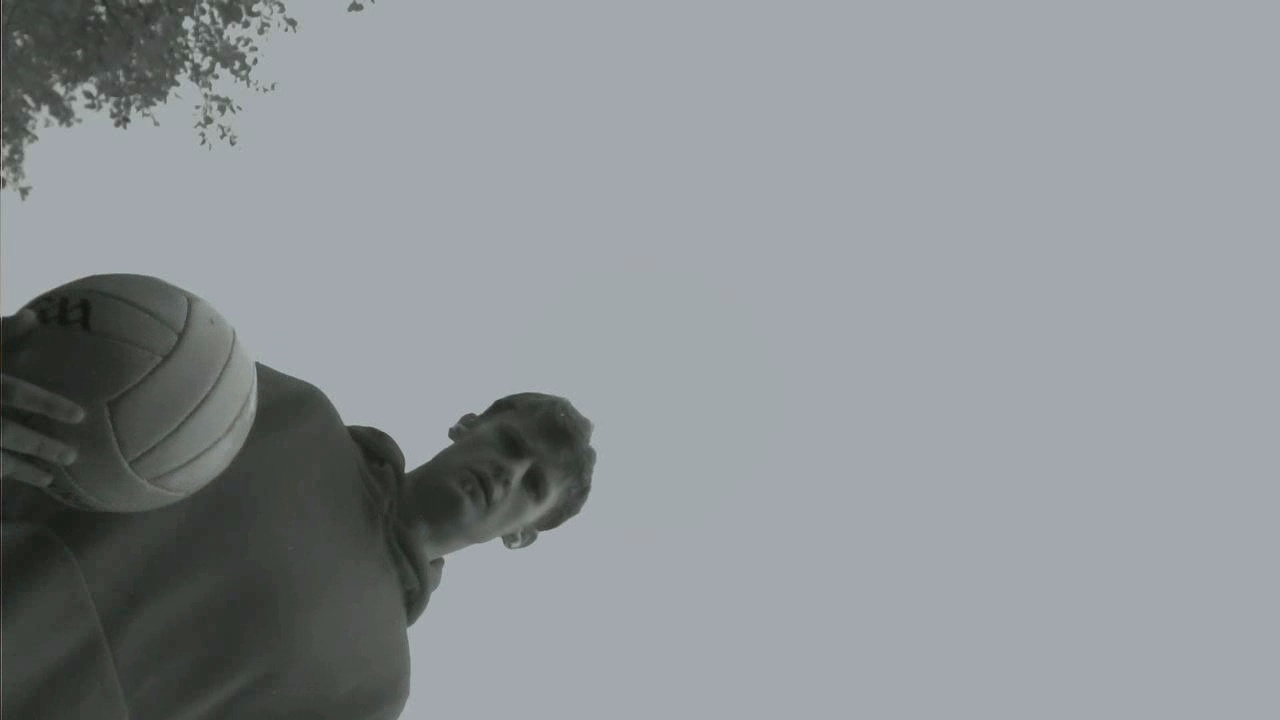Football-Spotter: (5, 274, 257, 512)
